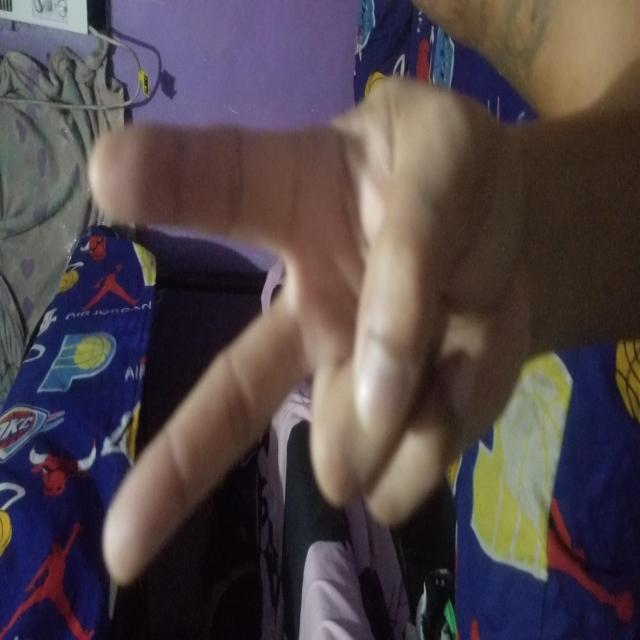V: (52, 88, 563, 524)
